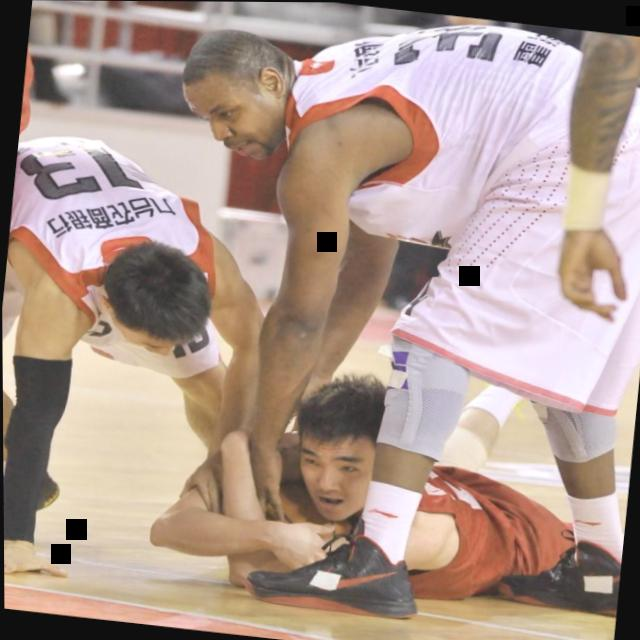Fall-Detected: (89, 317, 640, 640)
